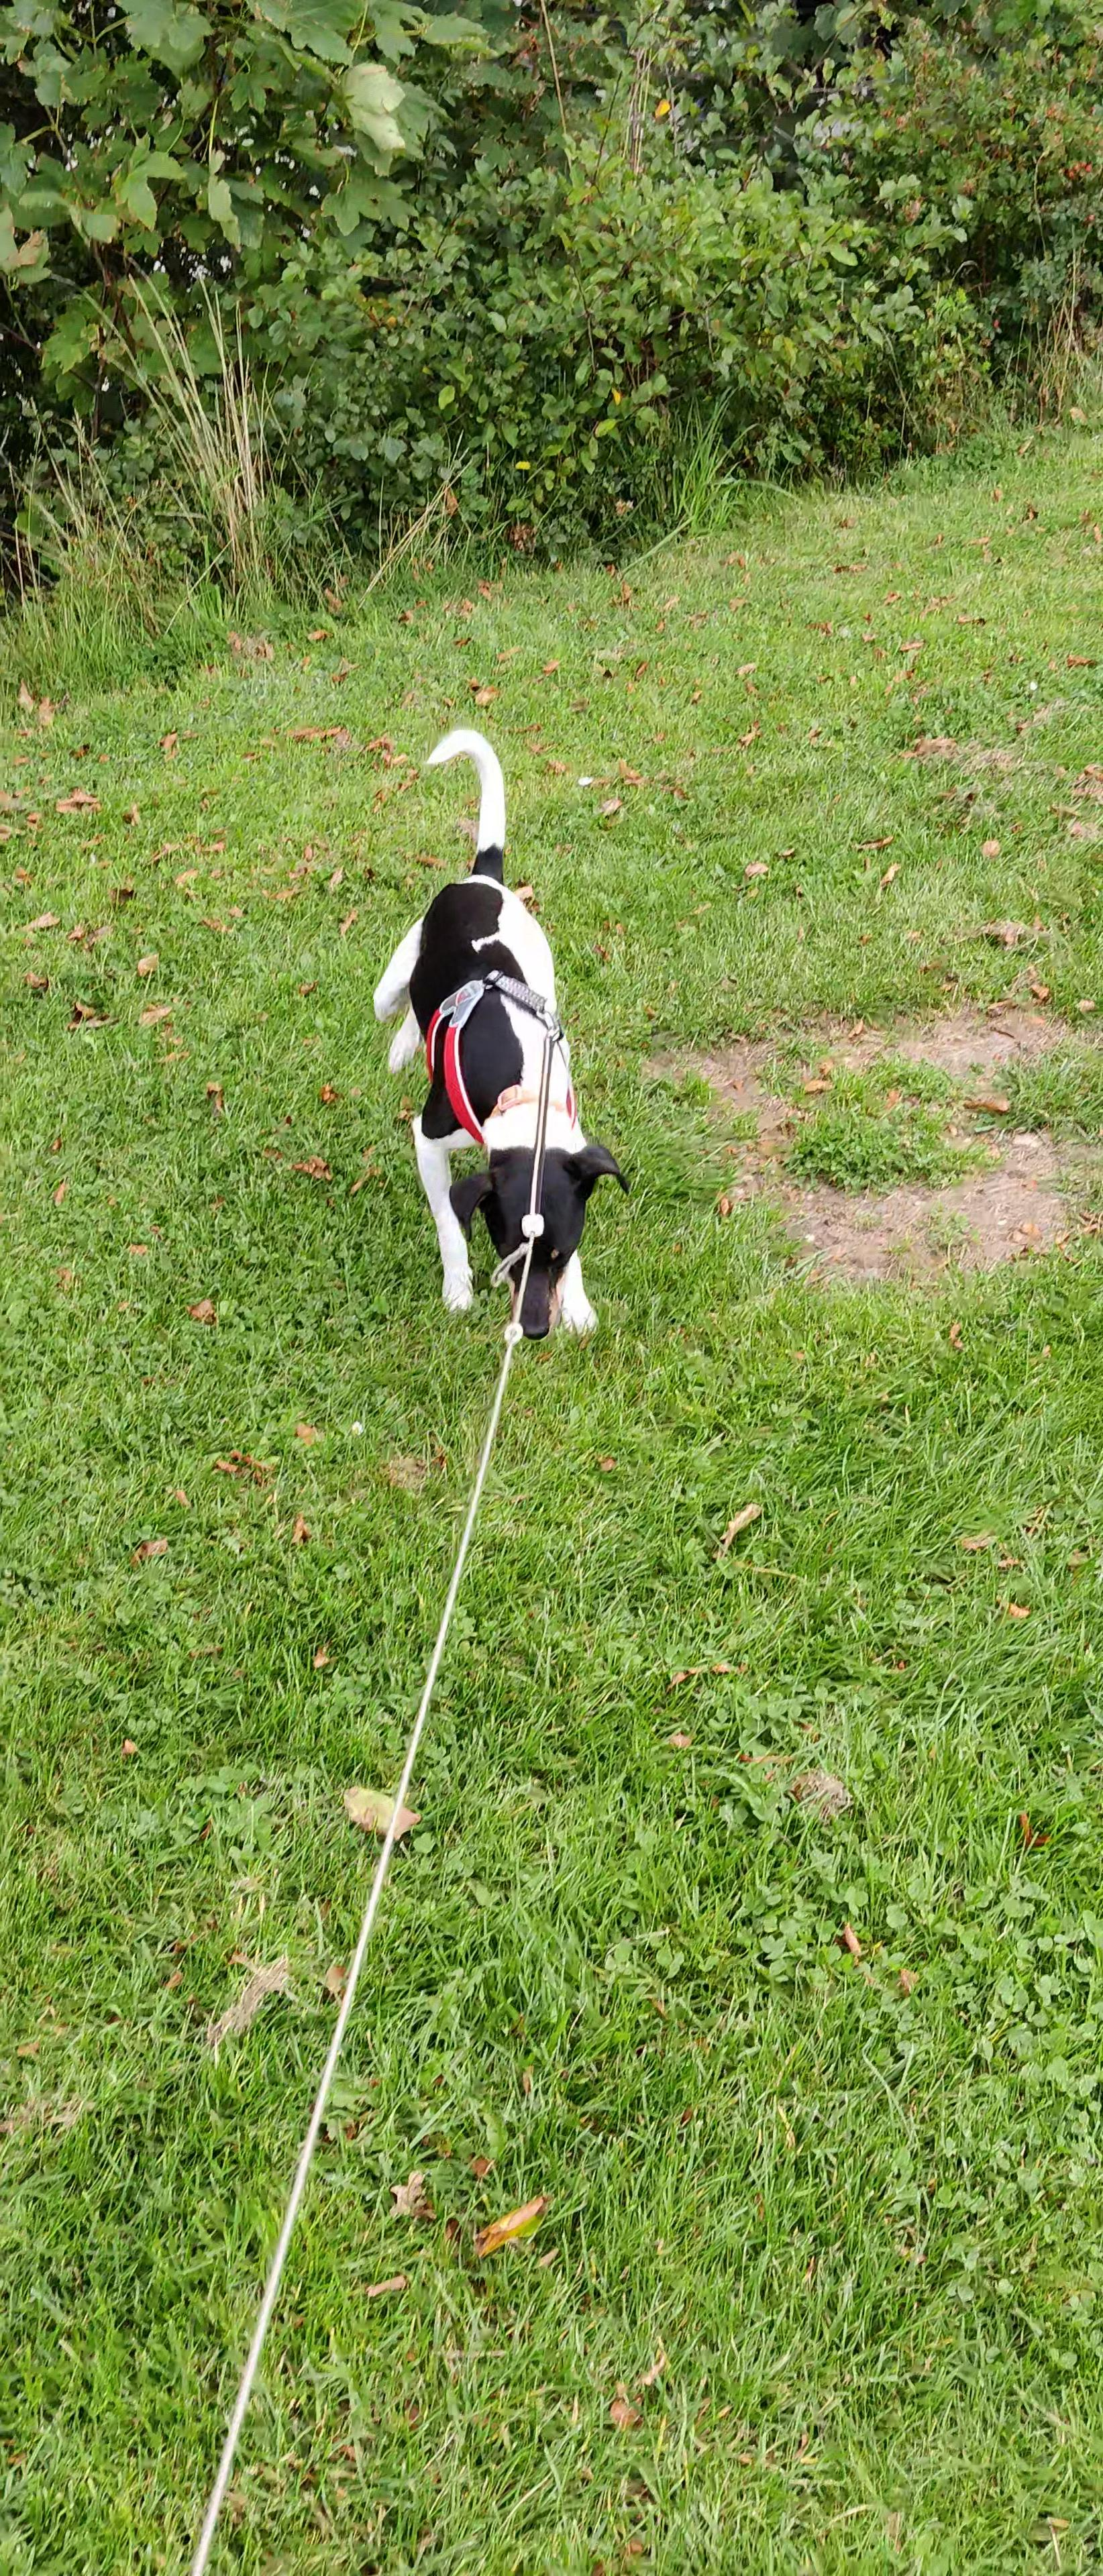Dog: (363, 713, 639, 1357)
